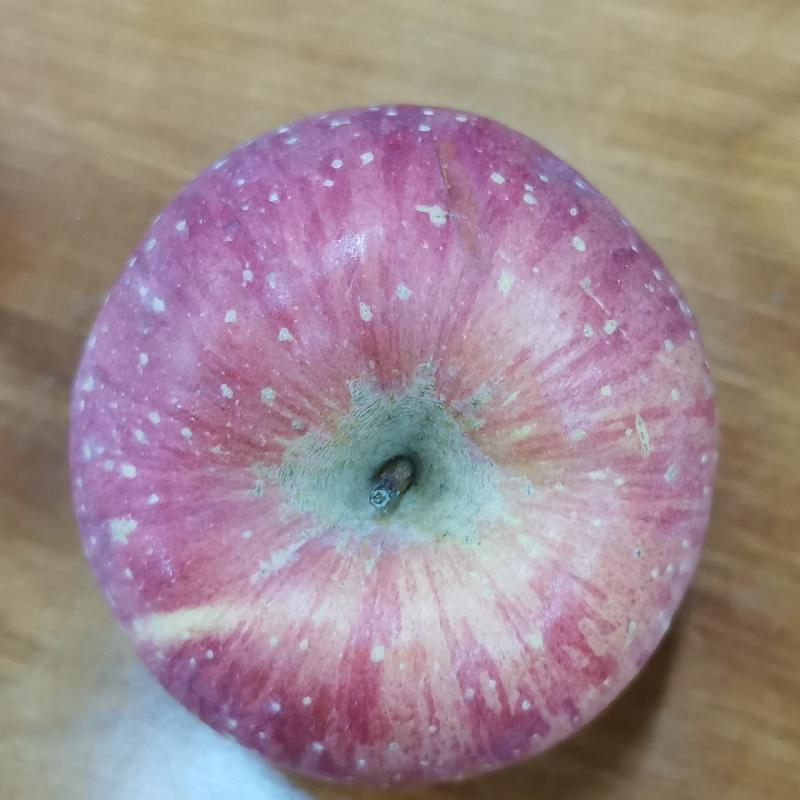apples: (124, 231, 714, 785)
